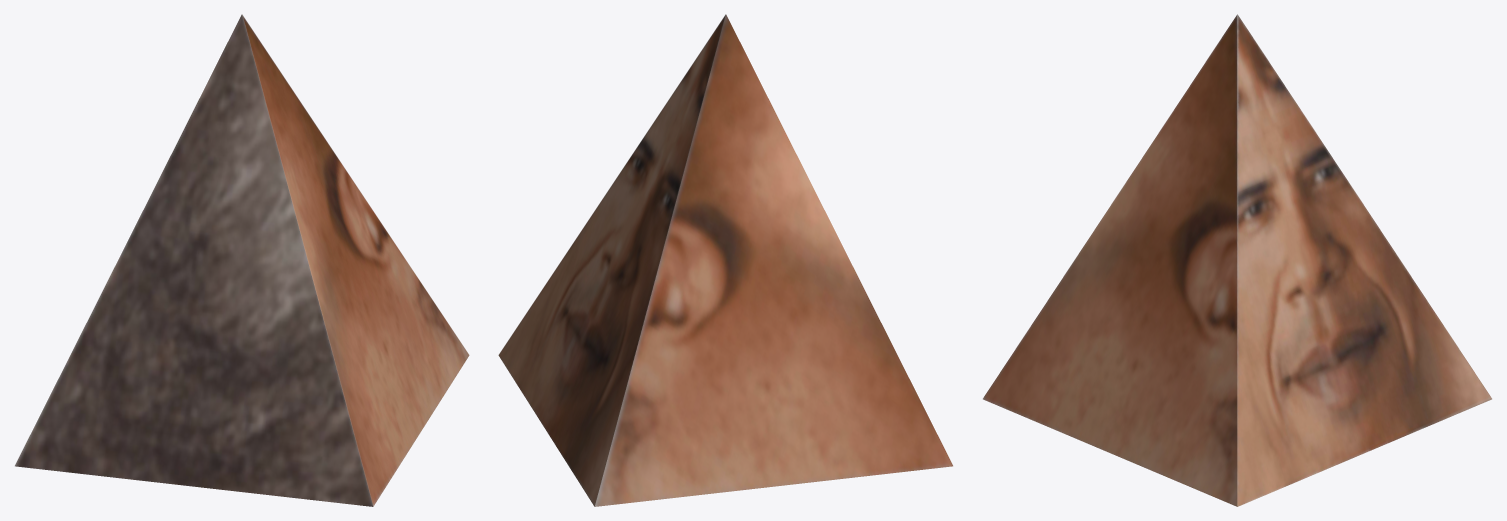
The model's file is obama.glb.
3 views of the same model, side by side, from view 1: azimuth 30°, elevation 25°; view 2: azimuth 150°, elevation 25°; view 3: azimuth 270°, elevation 25° (orthographic). The views are drawn at different scales.
Parts seen in each view (by area): view 1: Cone; view 2: Cone; view 3: Cone.
Part boxes in pixels (left/top/right/bottom): Cone: left=15, top=14, right=469, bottom=506; Cone: left=498, top=14, right=952, bottom=506; Cone: left=983, top=14, right=1491, bottom=506.
Size of the model in its own units: 12 by 10 by 12.
Materials: 1 (1 with a texture image).
